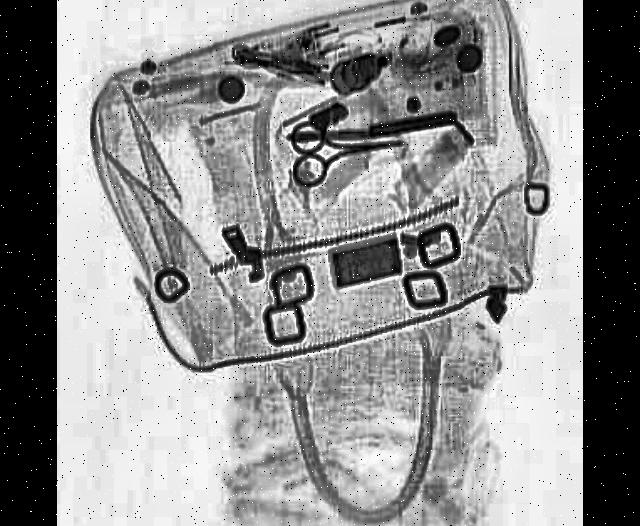Scissors: (294, 116, 408, 188)
